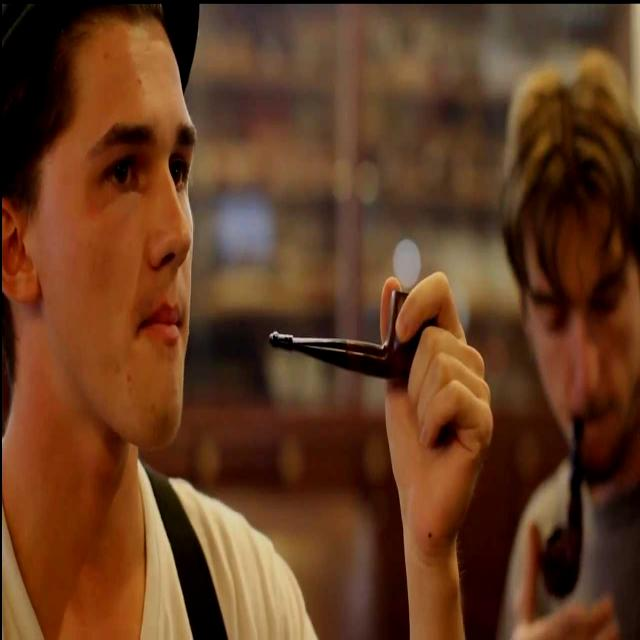Smooking: (262, 278, 437, 422), (547, 406, 593, 606)
